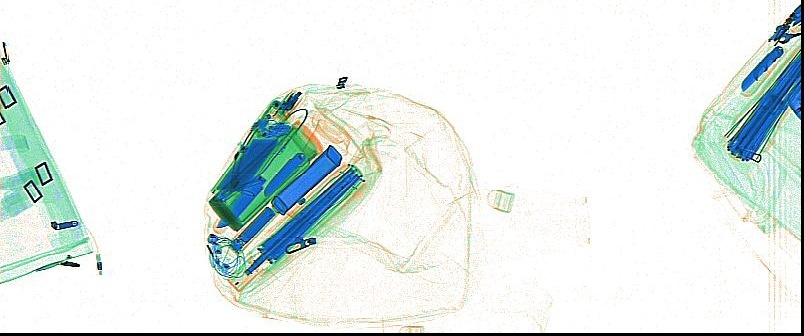knife: (211, 172, 265, 233), (739, 44, 788, 97), (262, 150, 306, 197)
zippooil: (270, 142, 341, 214)
